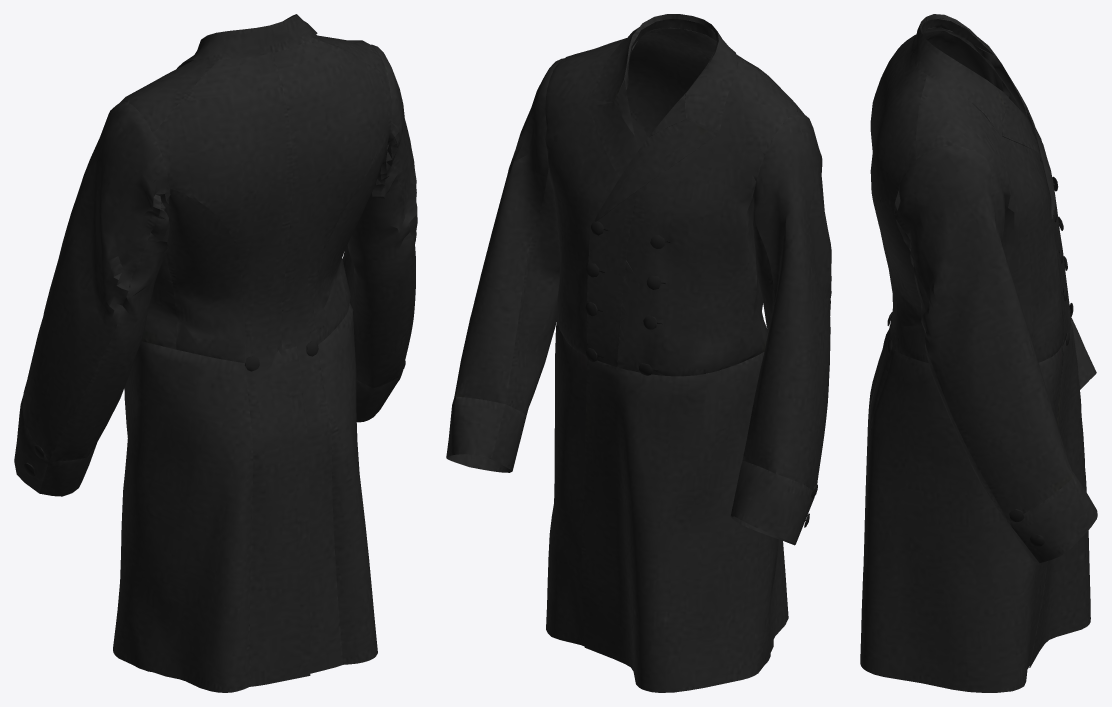
Rendered from coat-overcoat.glb.
3 renders of one model, left to right at view 1: azimuth 30°, elevation 25°; view 2: azimuth 150°, elevation 25°; view 3: azimuth 270°, elevation 25°, orthographic. The views are drawn at different scales.
Parts seen in each view (by area): view 1: coat-overcoat; view 2: coat-overcoat; view 3: coat-overcoat.
Boxes of the visible parts, x1,y1,x2,y2 form: coat-overcoat: (14,14,417,692); coat-overcoat: (446,14,831,692); coat-overcoat: (860,14,1097,692).
Bounding box in the file's own units: 0.6673 × 1.1 × 0.3853.
Materials: 1 (1 with a texture image).
